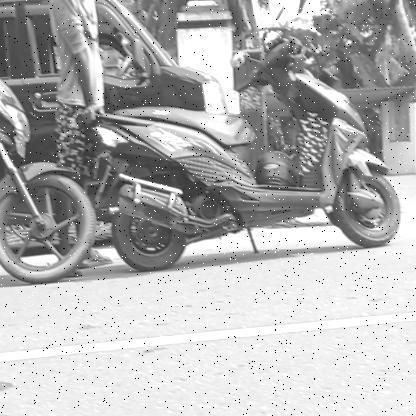motorcycle: (75, 2, 416, 280), (0, 47, 98, 311)
